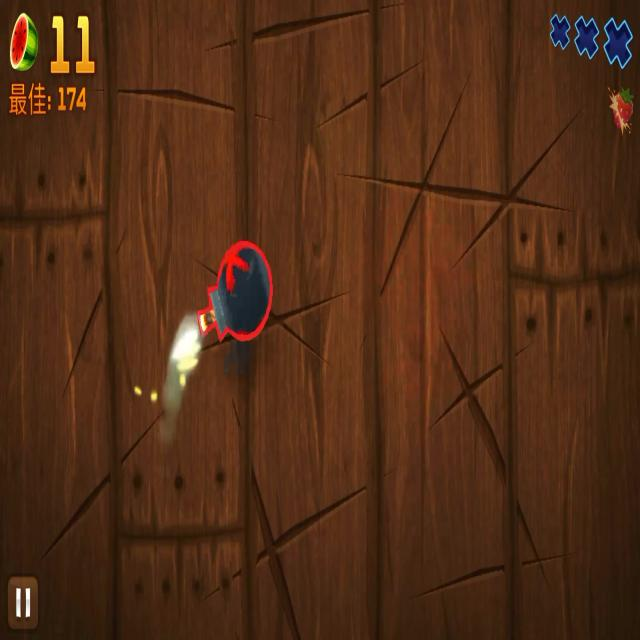bomb: (170, 224, 284, 383)
